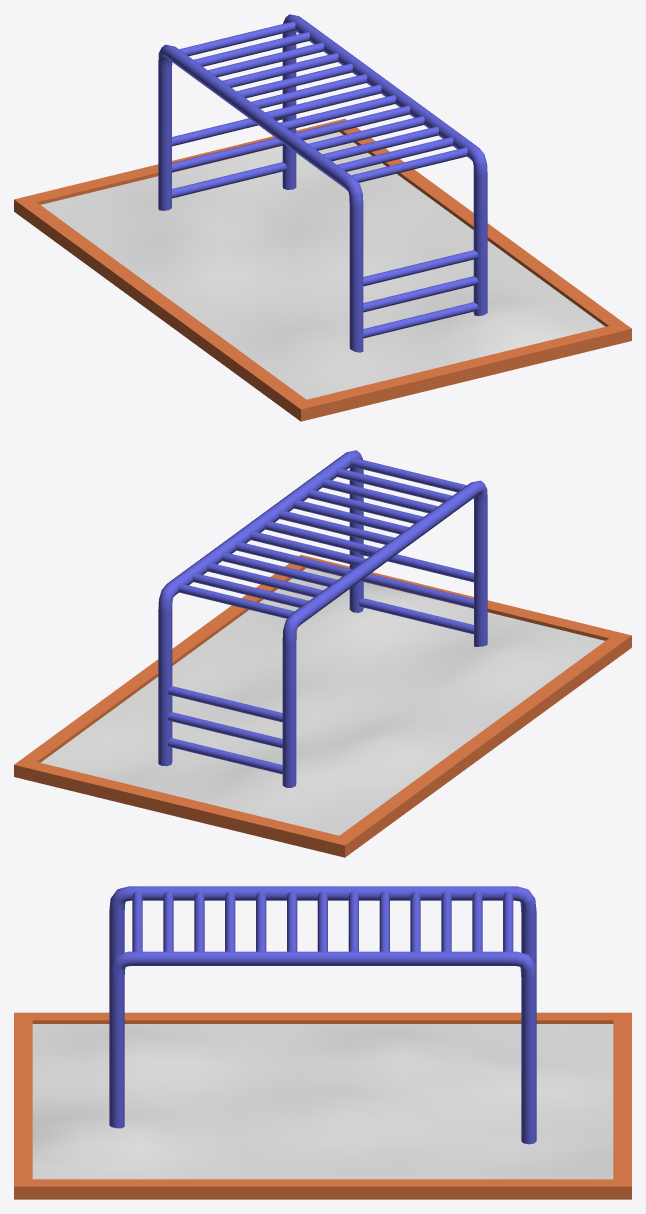
File: sm_handrail.fbx
The picture shows the model from 3 angles, top to bottom: view 1: azimuth 30°, elevation 25°; view 2: azimuth 150°, elevation 25°; view 3: azimuth 270°, elevation 25°; orthographic projection. The views are drawn at different scales.
Parts seen in each view (by area): view 1: sm_arena.002, sm_separador_terreno.002, sm_pasamanos.001, sm_pasamanos.004, sm_pasamanos, sm_pasamanos.002, sm_pasamanos.003, sm_pasamanos.005, sm_pasamanos.008, sm_pasamanos.015, sm_pasamanos.009, sm_pasamanos.012 (+11 smaller); view 2: sm_arena.002, sm_separador_terreno.002, sm_pasamanos.001, sm_pasamanos.004, sm_pasamanos.006, sm_pasamanos.007, sm_pasamanos.005, sm_pasamanos, sm_pasamanos.020, sm_pasamanos.008, sm_pasamanos.011, sm_pasamanos.019 (+11 smaller); view 3: sm_arena.002, sm_separador_terreno.002, sm_pasamanos.004, sm_pasamanos.001, sm_pasamanos.008, sm_pasamanos.009, sm_pasamanos.010, sm_pasamanos.012, sm_pasamanos.013, sm_pasamanos.014, sm_pasamanos.016, sm_pasamanos.017 (+5 smaller).
Part boxes in pixels (bbox=[...]): sm_arena.002: bbox=[41, 132, 605, 399]; sm_separador_terreno.002: bbox=[14, 118, 631, 421]; sm_pasamanos.001: bbox=[158, 44, 363, 352]; sm_pasamanos.004: bbox=[282, 14, 487, 316]; sm_pasamanos: bbox=[363, 302, 478, 338]; sm_pasamanos.002: bbox=[363, 276, 478, 312]; sm_pasamanos.003: bbox=[363, 250, 478, 286]; sm_pasamanos.005: bbox=[172, 162, 287, 198]; sm_pasamanos.008: bbox=[351, 147, 467, 182]; sm_pasamanos.015: bbox=[251, 74, 367, 108]; sm_pasamanos.009: bbox=[337, 137, 453, 171]; sm_pasamanos.012: bbox=[294, 105, 410, 140]; sm_arena.002: bbox=[40, 568, 604, 835]; sm_separador_terreno.002: bbox=[14, 555, 631, 857]; sm_pasamanos.001: bbox=[282, 480, 487, 787]; sm_pasamanos.004: bbox=[158, 450, 363, 766]; sm_pasamanos.006: bbox=[167, 712, 282, 748]; sm_pasamanos.007: bbox=[167, 686, 282, 722]; sm_pasamanos.005: bbox=[167, 738, 282, 774]; sm_pasamanos: bbox=[359, 598, 473, 634]; sm_pasamanos.020: bbox=[178, 583, 294, 618]; sm_pasamanos.008: bbox=[350, 457, 466, 492]; sm_pasamanos.011: bbox=[307, 489, 423, 523]; sm_pasamanos.019: bbox=[192, 573, 308, 607]; sm_arena.002: bbox=[32, 1024, 613, 1179]; sm_separador_terreno.002: bbox=[14, 1012, 631, 1199]; sm_pasamanos.004: bbox=[109, 951, 536, 1144]; sm_pasamanos.001: bbox=[109, 886, 536, 975]; sm_pasamanos.008: bbox=[132, 891, 142, 951]; sm_pasamanos.009: bbox=[163, 891, 173, 951]; sm_pasamanos.010: bbox=[194, 891, 204, 951]; sm_pasamanos.012: bbox=[256, 891, 266, 951]; sm_pasamanos.013: bbox=[287, 891, 297, 951]; sm_pasamanos.014: bbox=[317, 891, 327, 951]; sm_pasamanos.016: bbox=[379, 891, 389, 951]; sm_pasamanos.017: bbox=[410, 891, 420, 951].
Bounding box in the file's own units: 400 × 208 × 600.
